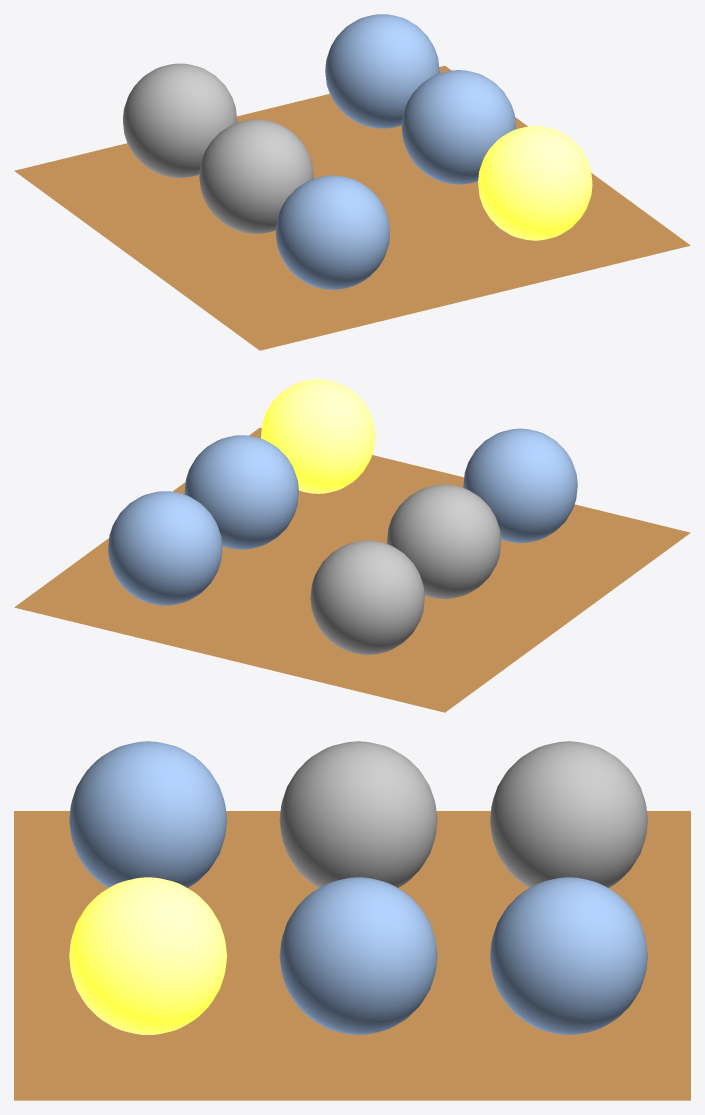
File: Spheres.gltf
3 views of the same model, one above another, from view 1: azimuth 30°, elevation 25°; view 2: azimuth 150°, elevation 25°; view 3: azimuth 270°, elevation 25° (orthographic). The views are drawn at different scales.
Visible parts, largest first — view 1: Plane001, Sphere006, Sphere005, Sphere002, Sphere003, Sphere004, Sphere001; view 2: Plane001, Sphere002, Sphere001, Sphere006, Sphere003, Sphere005, Sphere004; view 3: Plane001, Sphere003, Sphere005, Sphere001, Sphere004, Sphere002, Sphere006.
Boxes of the visible parts, x1=… form: Plane001: x1=14, y1=65, x2=690, y2=350; Sphere006: x1=275, y1=175, x2=389, y2=289; Sphere005: x1=478, y1=126, x2=592, y2=240; Sphere002: x1=123, y1=63, x2=237, y2=177; Sphere003: x1=401, y1=70, x2=515, y2=184; Sphere004: x1=199, y1=119, x2=313, y2=233; Sphere001: x1=325, y1=14, x2=439, y2=128; Plane001: x1=14, y1=427, x2=690, y2=712; Sphere002: x1=310, y1=540, x2=424, y2=654; Sphere001: x1=108, y1=491, x2=222, y2=605; Sphere006: x1=463, y1=428, x2=577, y2=543; Sphere003: x1=184, y1=435, x2=298, y2=549; Sphere005: x1=261, y1=379, x2=375, y2=493; Sphere004: x1=387, y1=484, x2=501, y2=599; Plane001: x1=14, y1=811, x2=690, y2=1100; Sphere003: x1=279, y1=877, x2=437, y2=1034; Sphere005: x1=69, y1=877, x2=226, y2=1034; Sphere001: x1=490, y1=877, x2=647, y2=1034; Sphere004: x1=279, y1=741, x2=437, y2=887; Sphere002: x1=490, y1=741, x2=647, y2=887; Sphere006: x1=69, y1=741, x2=226, y2=887.
Size of the model in its own units: 39.33 by 9.13 by 38.86.
Materials: 7 (3 with a texture image).
